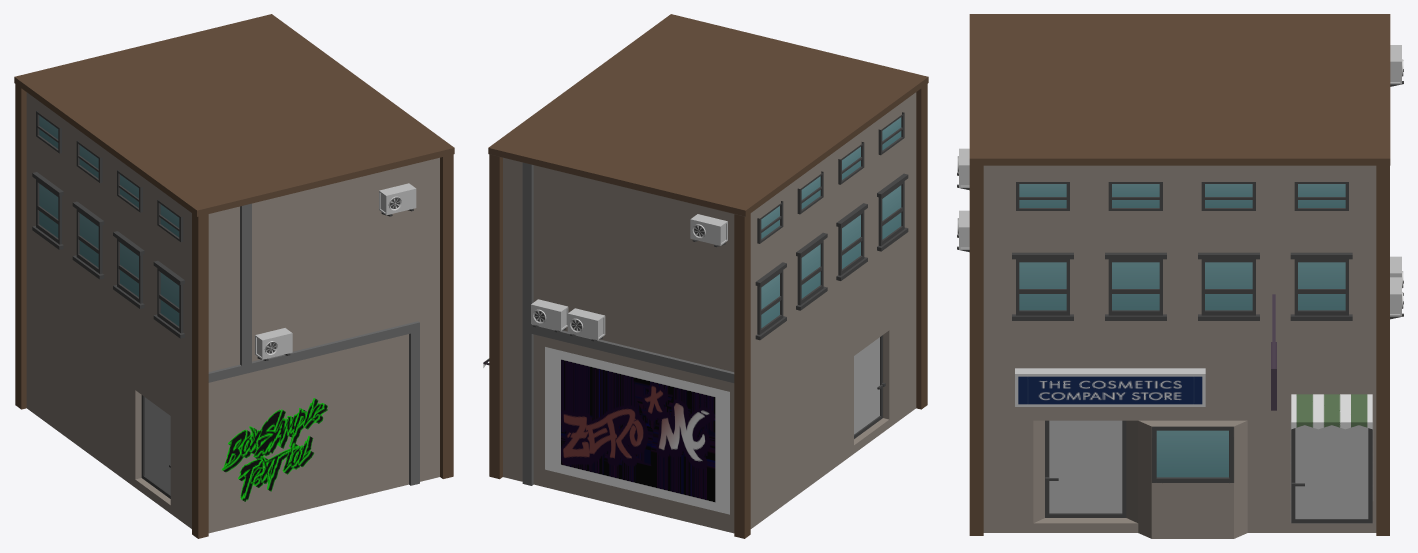
File: ghetto_building_02.fbx
3 renders of one model, left to right at view 1: azimuth 30°, elevation 25°; view 2: azimuth 150°, elevation 25°; view 3: azimuth 270°, elevation 25°, orthographic. The views are drawn at different scales.
Visible parts, largest first — view 1: Cube, Plane.002; view 2: Cube, Plane; view 3: Cube.
Part boxes in pixels (x1,y1,x2,y2): Cube: [14, 14, 454, 538]; Plane.002: [221, 398, 327, 501]; Cube: [483, 14, 928, 538]; Plane: [545, 347, 729, 514]; Cube: [957, 14, 1403, 538].
Size of the model in its own units: 980 by 1035 by 1099.
